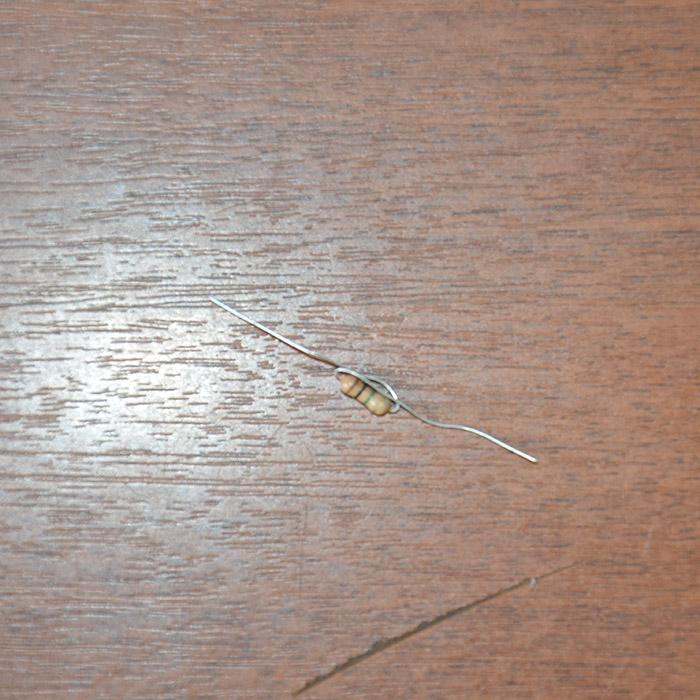resistor: (338, 371, 392, 416)
